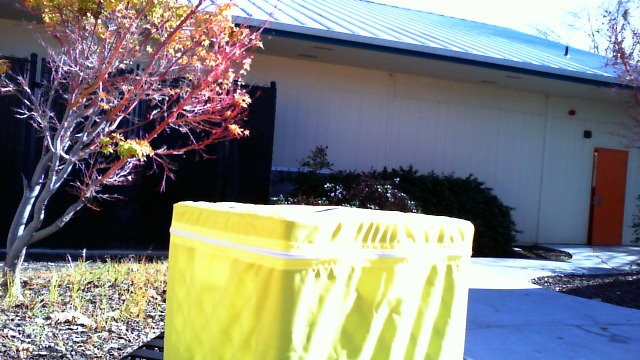cube: (162, 198, 477, 360)
